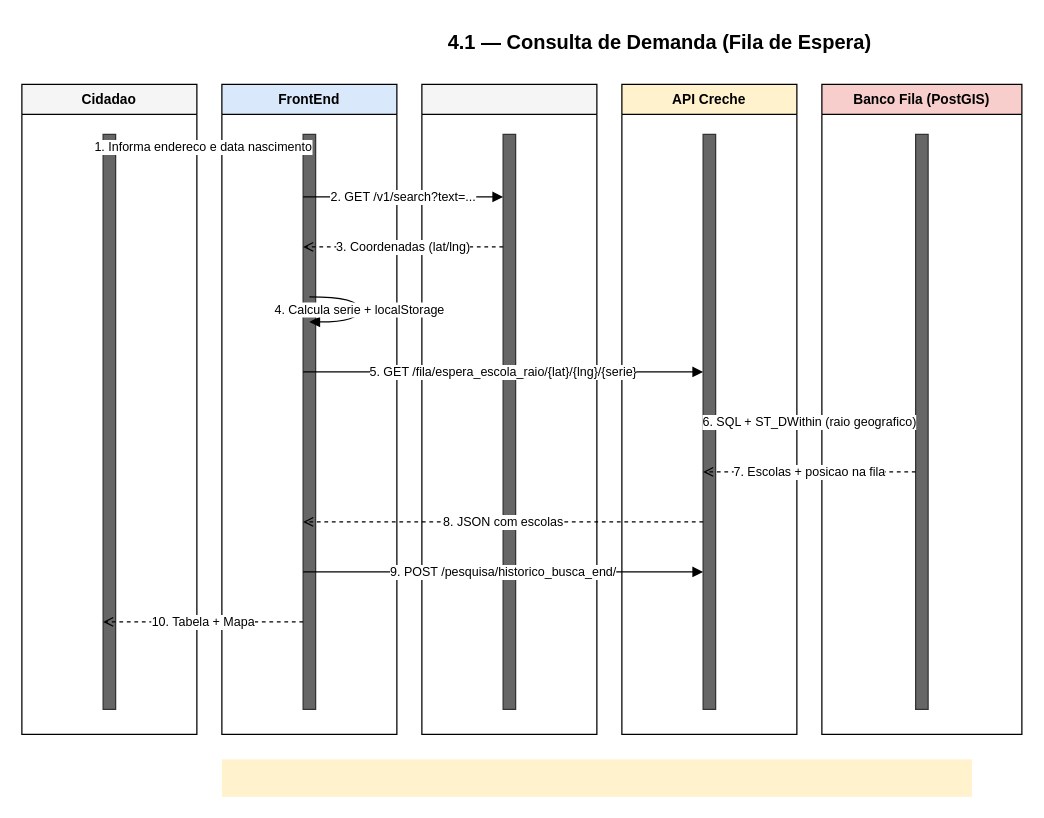
This 1044x818 diagram has some shape labels left out. The centre of each missing label's shape, as x and y in pixels:
"API Enderecos" goes at point (509, 408).
"Sem cache Redis neste fluxo | 3 conexoes DB por request (connect-per-query)" goes at point (596, 777).
